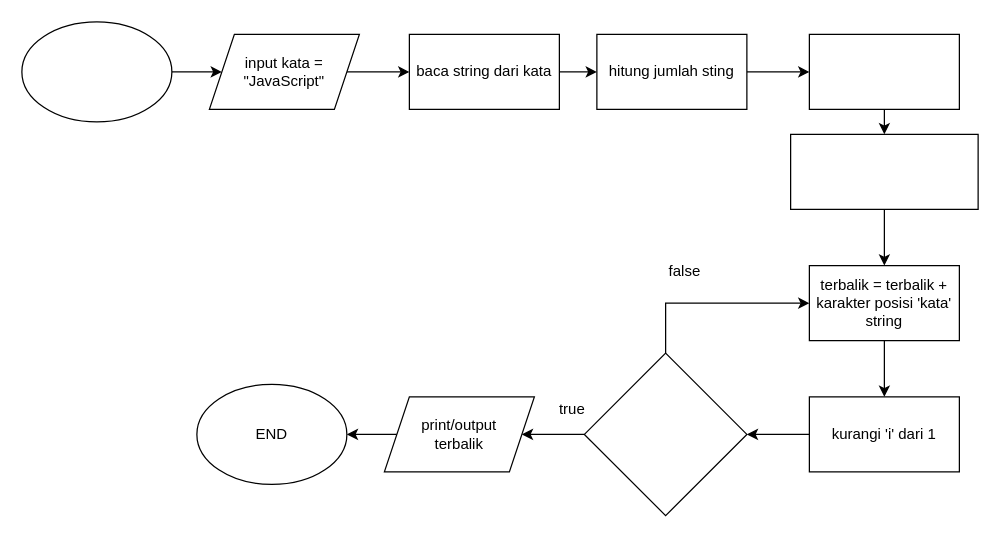
The diagram is 1000 pixels wide and 538 high, and some of its shapes have lost their labels. Here are the shapes that lost their labels. From the top down, the centre of each, then its label:
point (96, 71): START
point (883, 71): membuat var 'terbalik' yang sting kosong
point (883, 171): hitung i = jumlah.kata - 1
point (665, 434): apa i >= 0 ?
